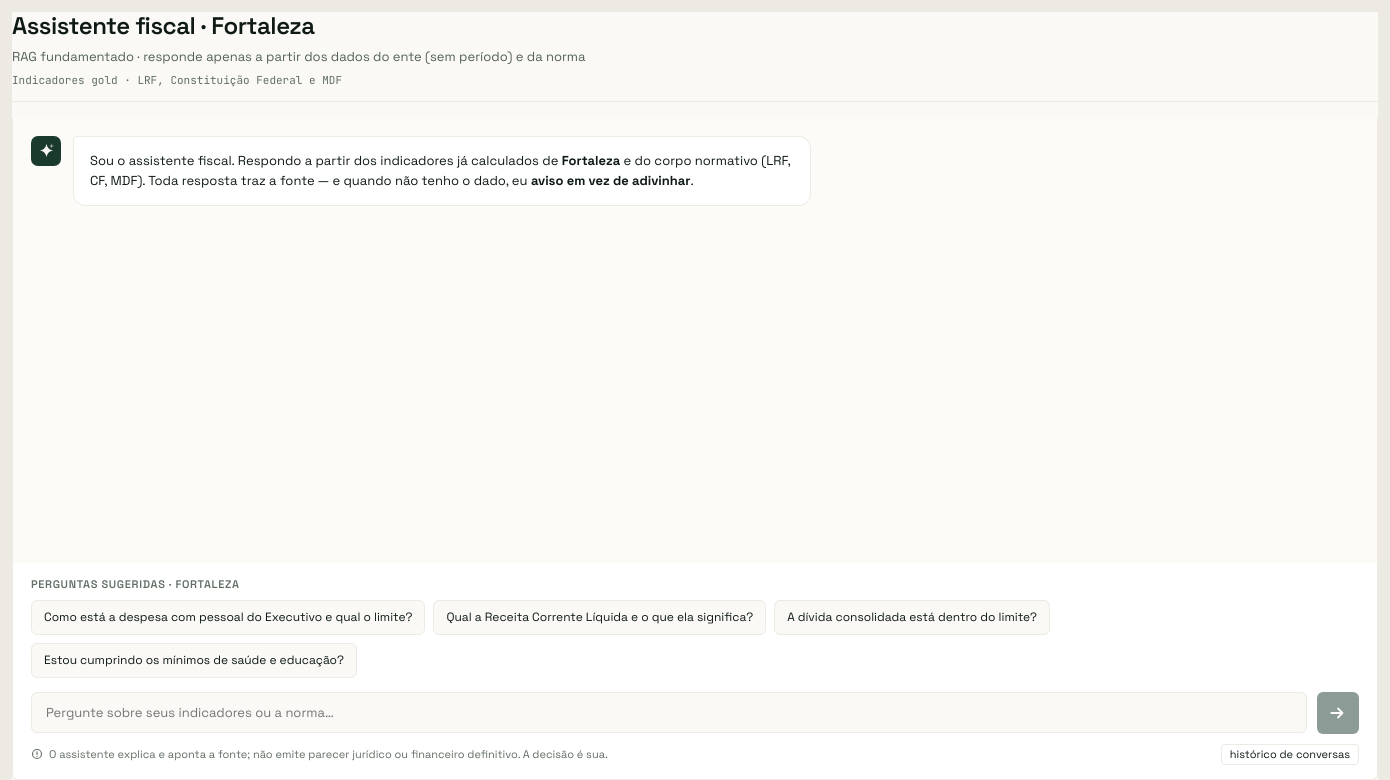
Assistente — dados incompletos e modo offline (Sprint B3) › não mostra a caixa de sinalização quando não há dados_incompletos
Click the button "Como está a despesa com pessoal do Executivo e qual o limite?" at (228, 617), box x1=31 y1=600 x2=426 y2=635
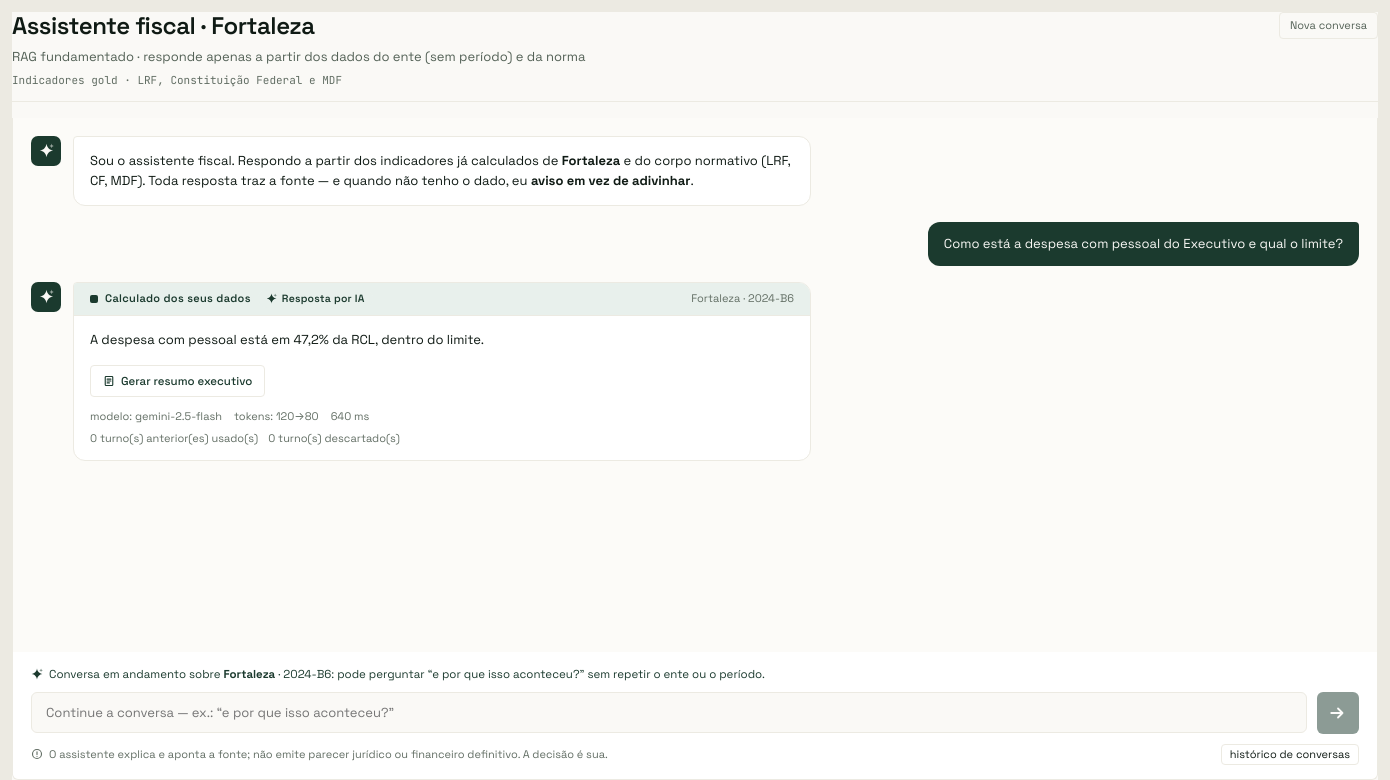
expect the text "dentro do limite" is shown: met, box x1=90 y1=331 x2=484 y2=348
